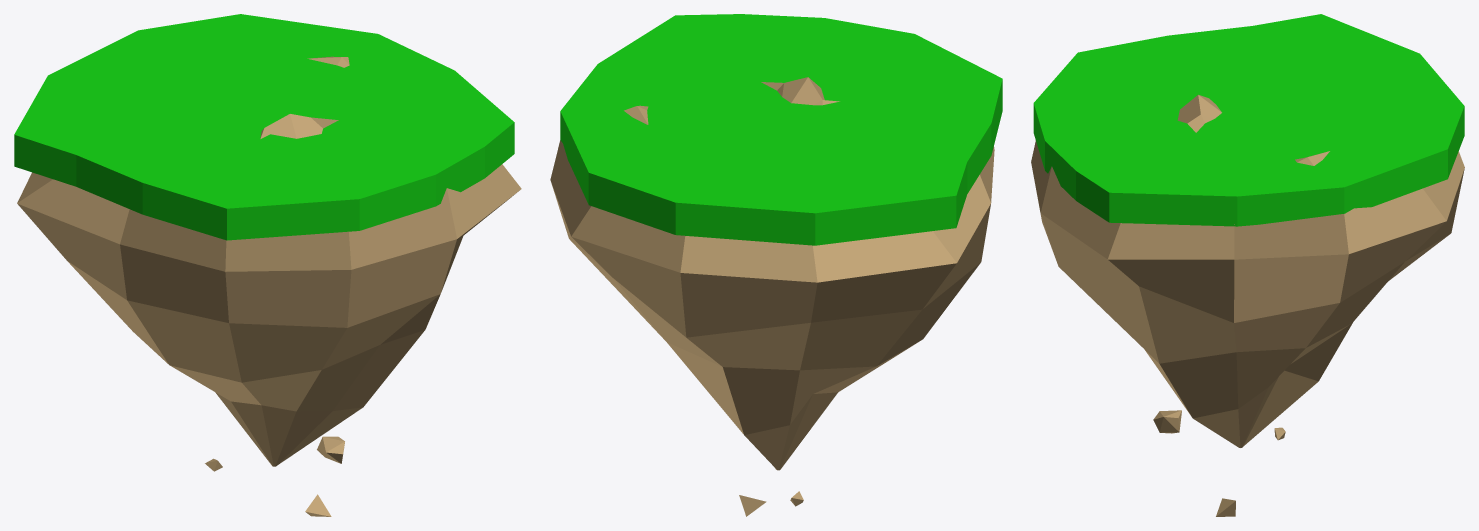
Rendered from lowpoly_platform.fbx.
3 renders of one model, left to right at view 1: azimuth 30°, elevation 25°; view 2: azimuth 150°, elevation 25°; view 3: azimuth 270°, elevation 25°, orthographic. The views are drawn at different scales.
Parts seen in each view (by area): view 1: Green_platform, Island; view 2: Green_platform, Island; view 3: Green_platform, Island.
Part boxes in pixels (x1,y1,x2,y2): Green_platform: (14,14,514,240); Island: (17,56,521,516); Green_platform: (560,14,1002,245); Island: (550,77,994,516); Green_platform: (1033,14,1464,226); Island: (1031,94,1464,516).
Size of the model in its own units: 105 by 107 by 104.
